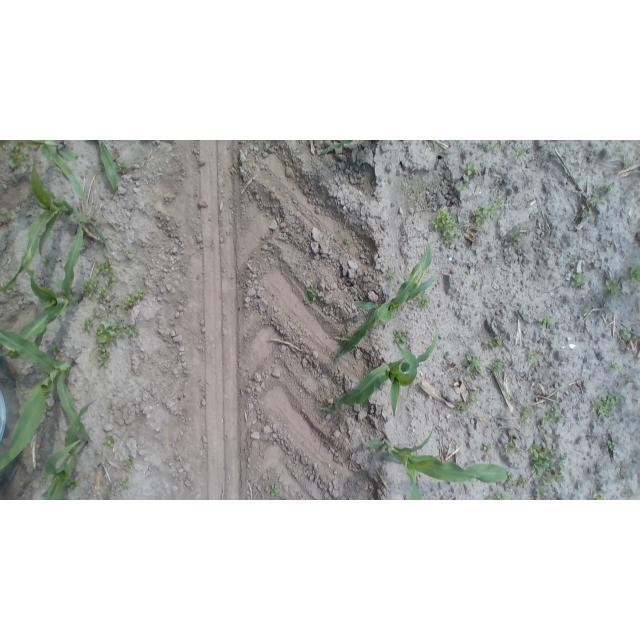Maize: (1, 157, 114, 294), (329, 238, 440, 363), (1, 325, 90, 473), (2, 215, 88, 365), (318, 329, 439, 419), (365, 428, 513, 499), (0, 140, 88, 208), (39, 401, 97, 500), (88, 140, 119, 192), (318, 140, 357, 158)
Weeds: (531, 440, 568, 487), (93, 320, 137, 347), (471, 197, 504, 228), (430, 208, 456, 245), (591, 392, 624, 420), (5, 145, 27, 172), (121, 289, 148, 311), (81, 278, 104, 299), (540, 406, 564, 426), (457, 392, 479, 411), (463, 353, 481, 375), (87, 282, 107, 301), (602, 278, 622, 296), (97, 344, 112, 368), (95, 259, 113, 278), (391, 327, 409, 345), (570, 272, 588, 289), (487, 358, 505, 374), (306, 282, 319, 304), (520, 404, 533, 426), (417, 291, 432, 310), (486, 334, 502, 350), (620, 324, 634, 341), (486, 491, 512, 500), (626, 265, 638, 284), (268, 482, 282, 498), (525, 349, 539, 364), (534, 486, 551, 498), (466, 163, 480, 177), (65, 477, 79, 491), (508, 230, 521, 245), (82, 317, 95, 332), (102, 436, 116, 449), (116, 160, 129, 174), (457, 179, 470, 193), (118, 477, 131, 490), (621, 486, 635, 498), (504, 442, 516, 455), (604, 181, 616, 194), (538, 314, 551, 326), (589, 491, 606, 500), (606, 440, 618, 452), (334, 334, 350, 343), (124, 457, 135, 470), (386, 269, 397, 282), (514, 148, 527, 159), (506, 470, 515, 485), (342, 237, 351, 252), (1, 213, 16, 222), (50, 344, 61, 356), (482, 441, 493, 453), (586, 196, 598, 207), (42, 402, 53, 414), (609, 146, 623, 155), (610, 361, 621, 372), (104, 276, 114, 288), (491, 141, 502, 151), (518, 477, 528, 488), (41, 256, 51, 267), (91, 308, 103, 317), (107, 402, 116, 414), (125, 249, 134, 260), (624, 158, 635, 167), (38, 473, 47, 483), (471, 282, 481, 290), (36, 444, 44, 450), (82, 239, 87, 246)
